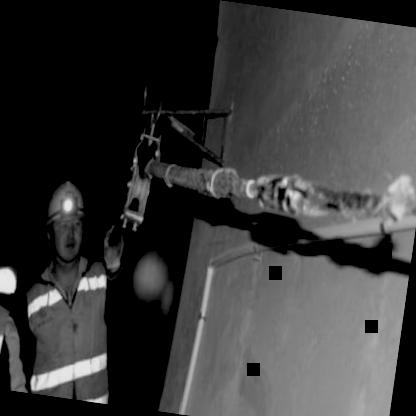helmet: (35, 170, 92, 273)
